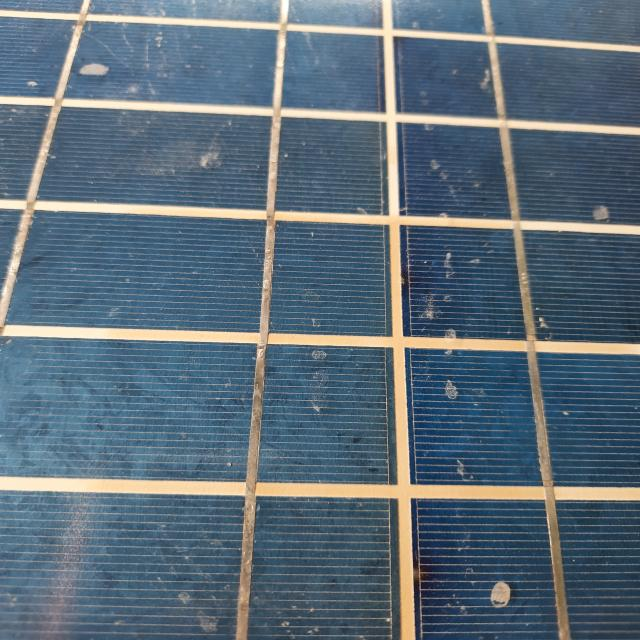dust-solar-panel: (0, 0, 638, 640)
